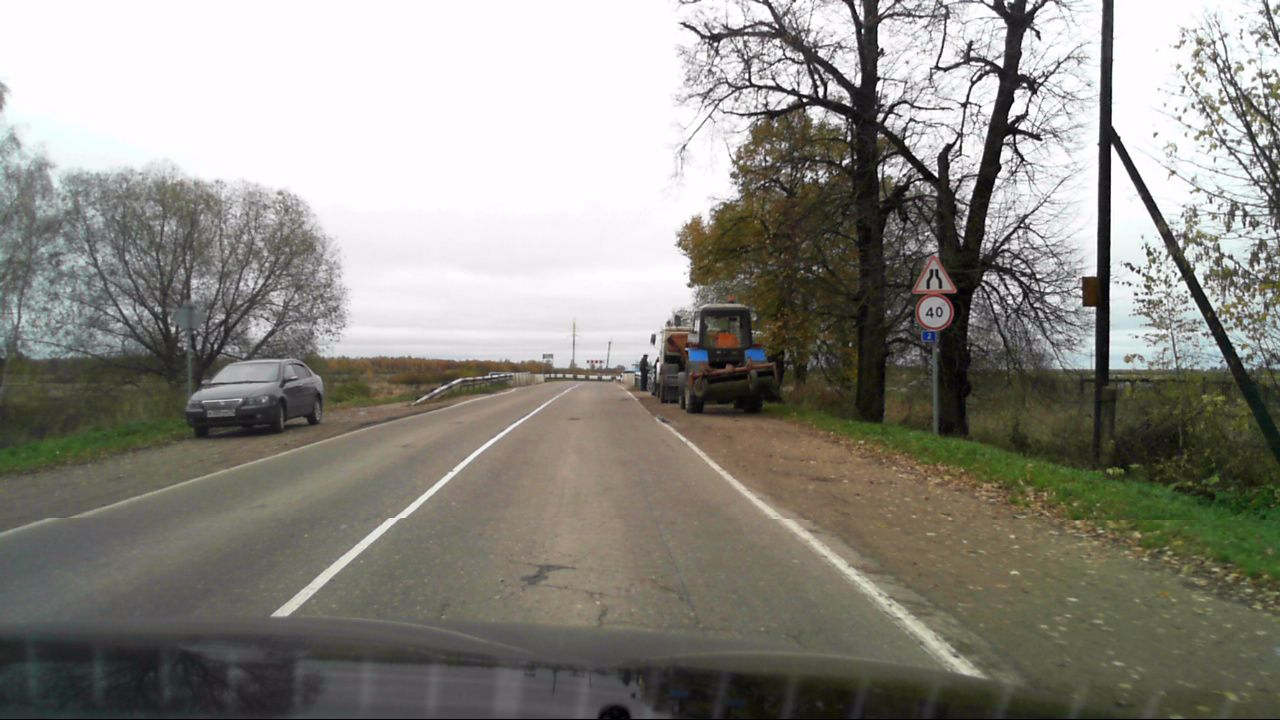speed_warning_40: (915, 294, 953, 329)
